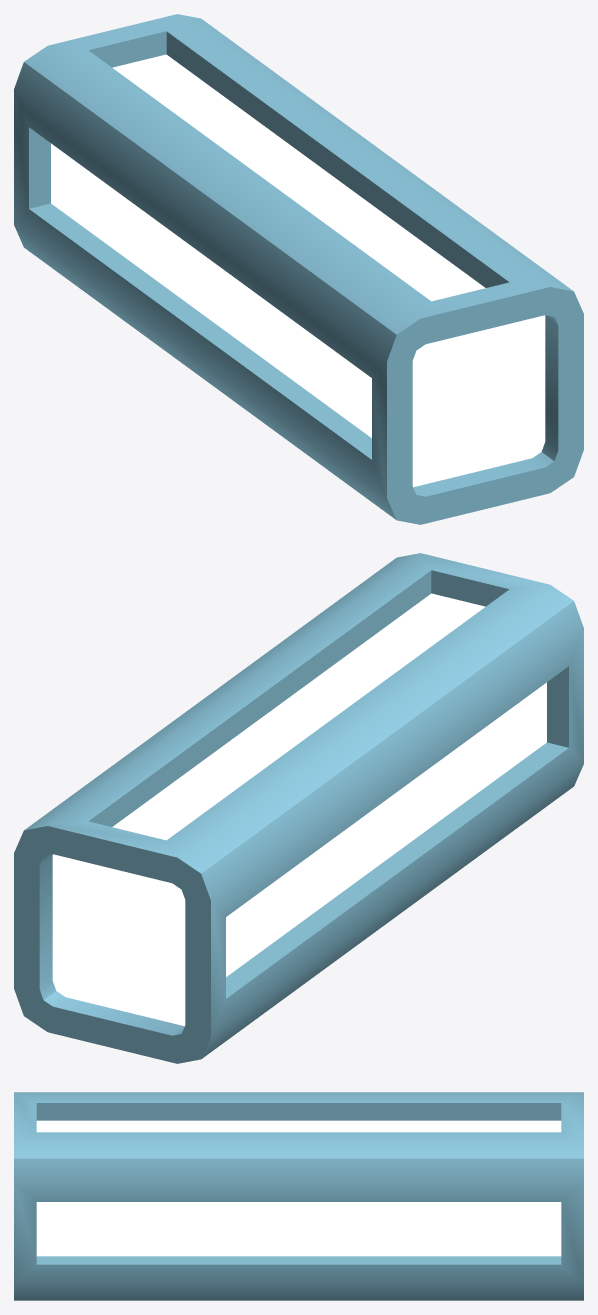
Rendered from ABody.fbx.
The picture shows the model from 3 angles, top to bottom: view 1: azimuth 30°, elevation 25°; view 2: azimuth 150°, elevation 25°; view 3: azimuth 270°, elevation 25°; orthographic projection. The views are drawn at different scales.
Parts seen in each view (by area): view 1: ABody; view 2: ABody; view 3: ABody.
Boxes of the visible parts, x1,y1,x2,y2 form: ABody: (14, 14, 583, 524); ABody: (14, 553, 583, 1063); ABody: (14, 1092, 583, 1300).
Bounding box in the file's own units: 87.89 × 87.89 × 288.
